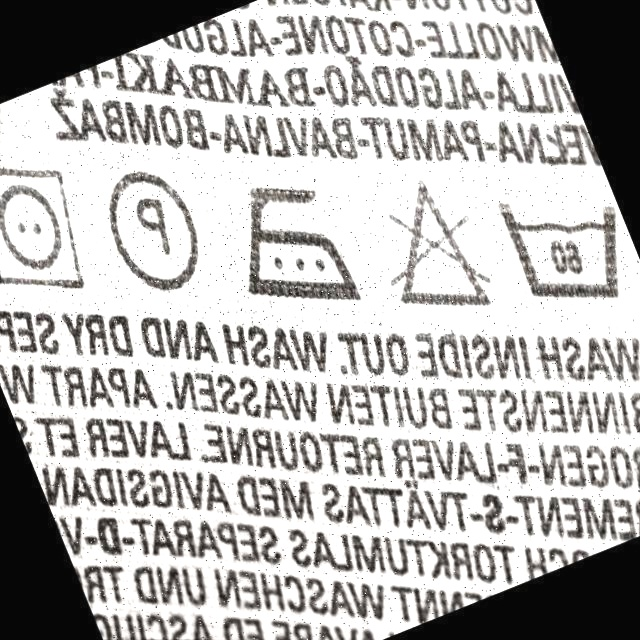60C: (496, 194, 627, 302)
DN_bleach: (390, 179, 490, 310)
dry_clean_any_solvent_except_trichloroethylene: (101, 167, 213, 296)
iron_high: (235, 181, 359, 305)
tumble_dry_medium: (0, 163, 80, 299)
